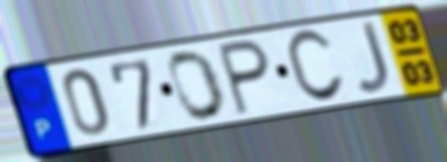0: (60, 66, 115, 140)
7: (106, 55, 154, 132)
C: (283, 27, 349, 106)
J: (353, 18, 393, 96)
O: (166, 48, 228, 123)
P: (215, 36, 273, 118)
